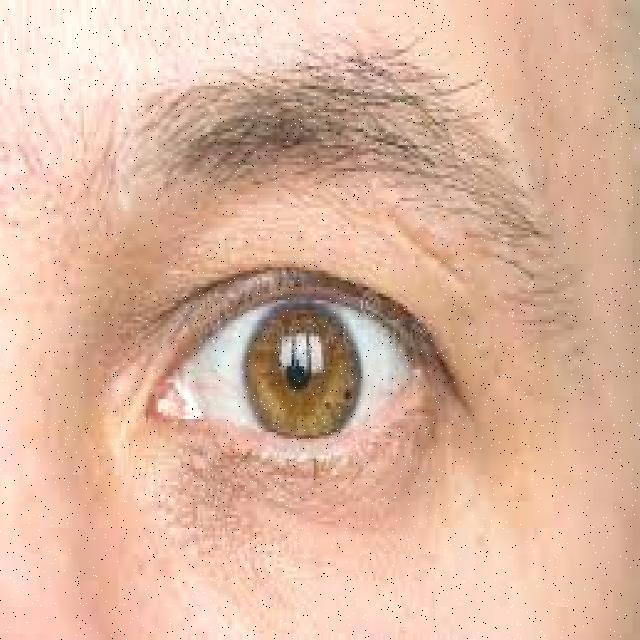Normal: (0, 140, 638, 637)
